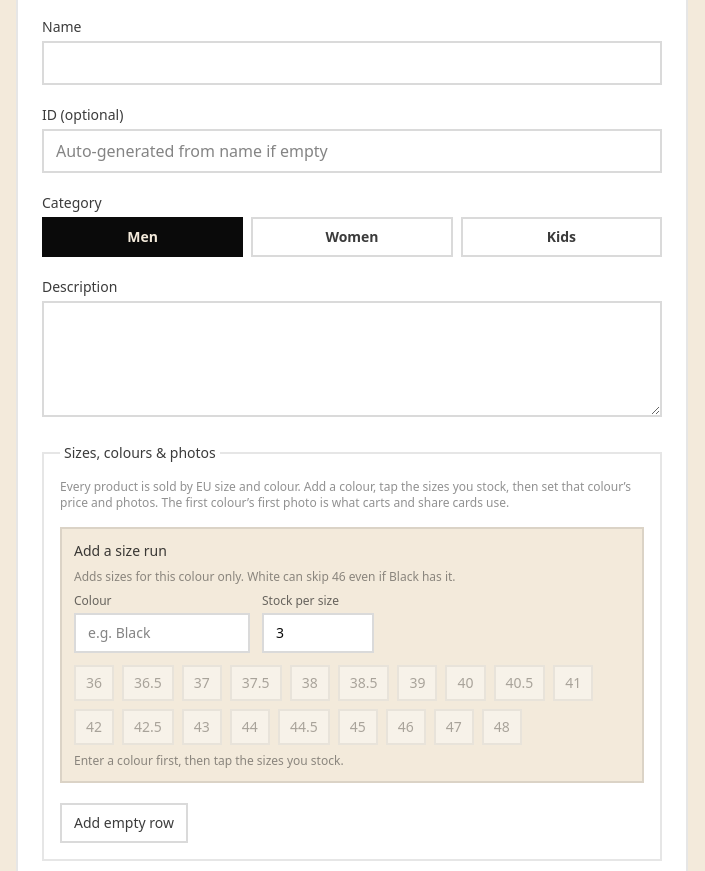
Test case: creating a product › requires a photo and price per colour
Step 1. Type "Runner Low" into the field labelled "Name" → (352, 63), box [42,41,662,85]
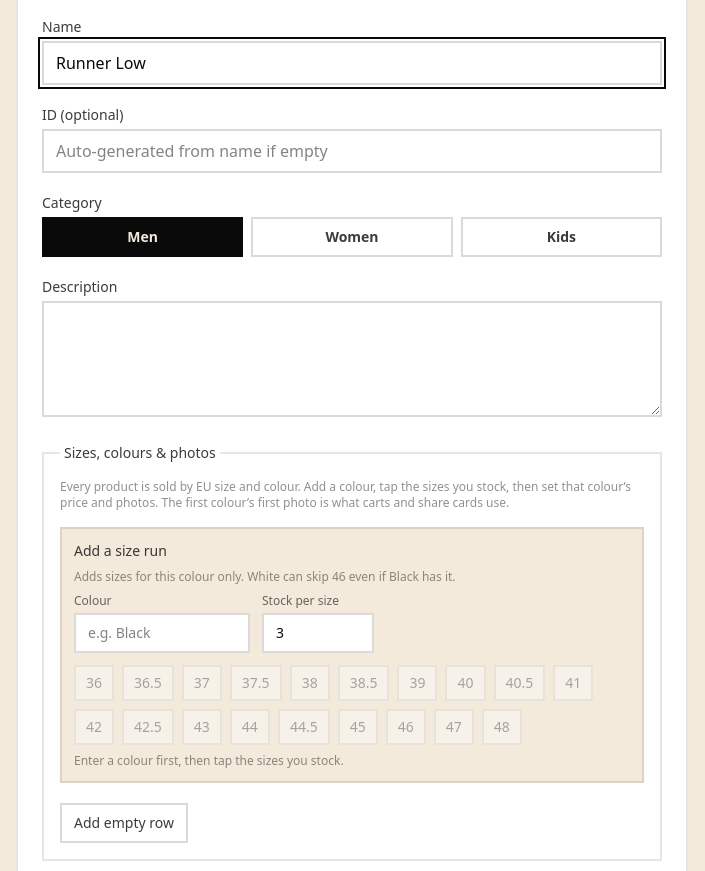
Step 2. Type "A shoe" into the text box labelled "Description" → (352, 359), box [42,301,662,417]
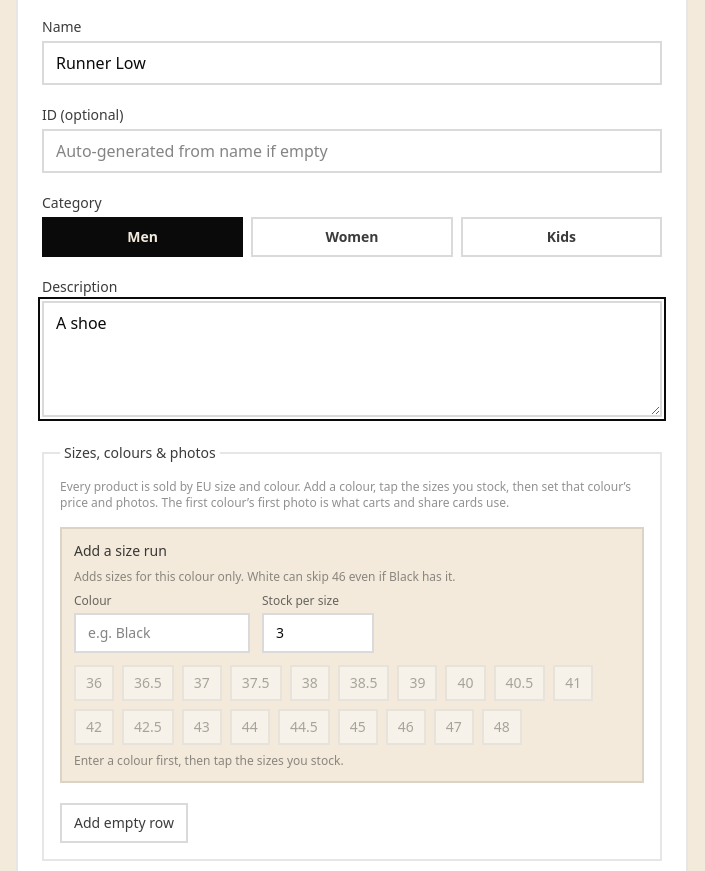
Step 3. Type "Black" into the field labelled "Colour" → (162, 633), box [74,613,250,653]
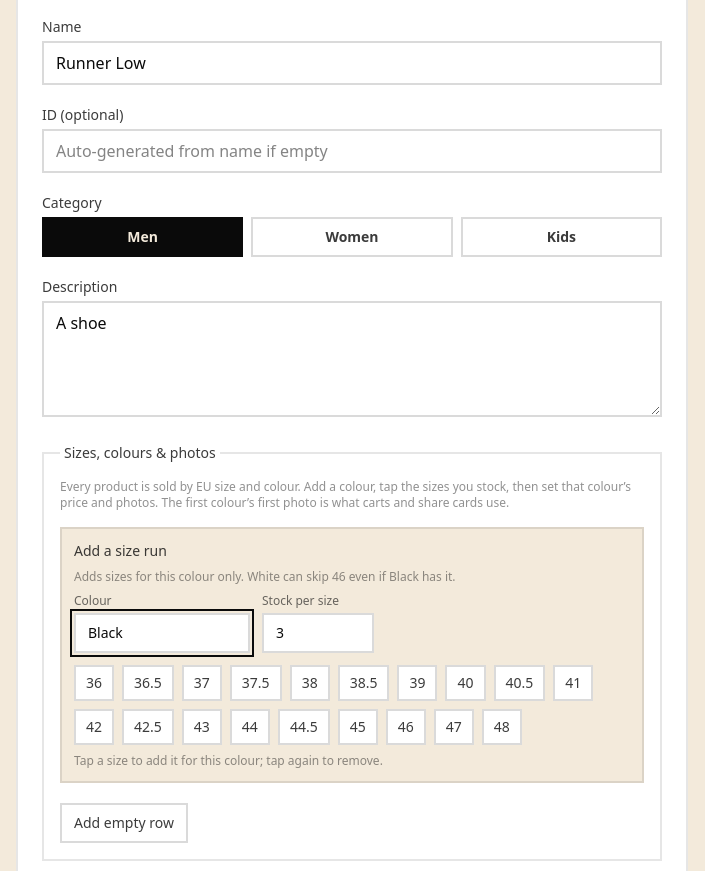
Step 4. Click the button "42" → (94, 727), box [74,709,114,745]
(page scrolled)
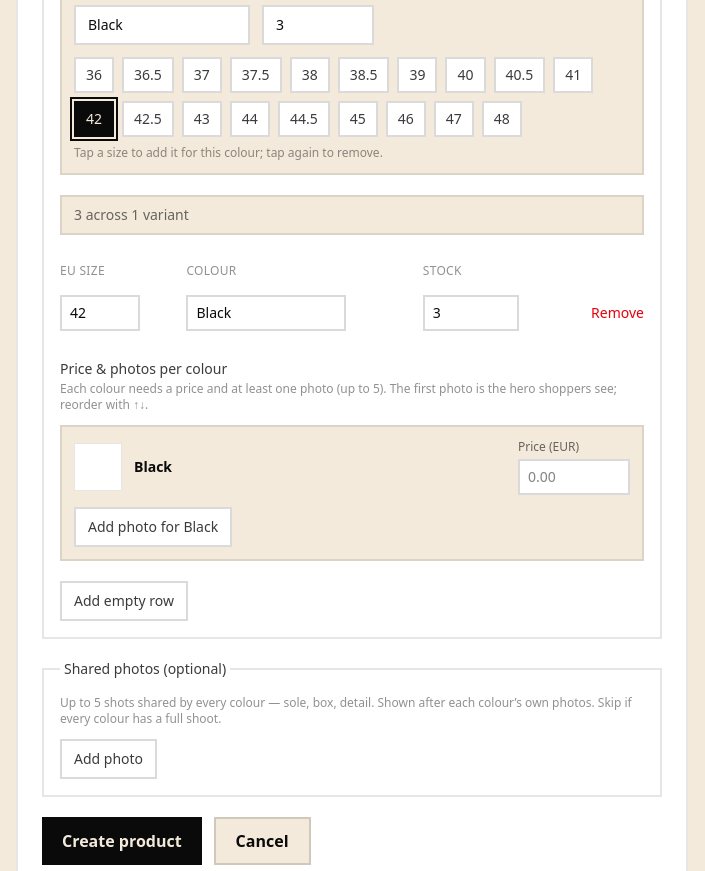
Step 5. Click the button "Create product" → (122, 841), box [42,817,202,865]
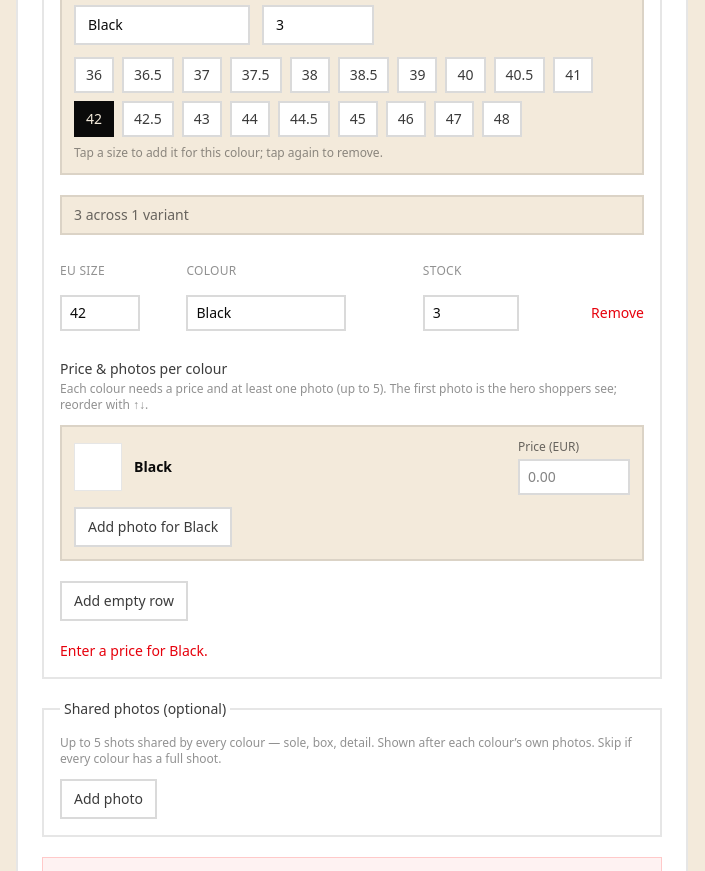
expect the text "Enter a price for Black." is shown: met, box [60,641,208,660]
